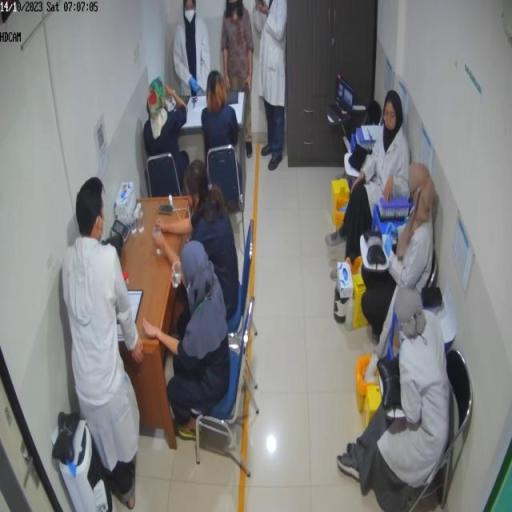person: (63, 177, 146, 506), (337, 287, 452, 510), (144, 241, 232, 444), (326, 91, 411, 266), (153, 161, 240, 320), (362, 171, 438, 350), (144, 78, 190, 194), (222, 3, 255, 160), (259, 2, 288, 171), (173, 1, 211, 99), (202, 70, 239, 169)
